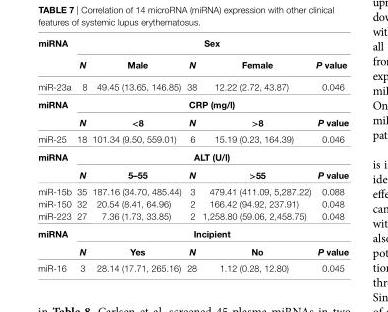table: (37, 37, 348, 272)
table column: (198, 37, 312, 272), (88, 37, 183, 272), (37, 37, 73, 272), (312, 37, 348, 272), (73, 37, 88, 272), (183, 37, 198, 272)
table column header: (37, 37, 348, 75)
table row: (37, 53, 348, 75), (37, 75, 348, 94), (37, 112, 348, 131), (37, 94, 348, 112), (37, 147, 348, 165), (37, 165, 348, 183), (37, 224, 348, 242), (37, 242, 348, 259), (37, 37, 348, 53), (37, 131, 348, 147), (37, 209, 348, 224), (37, 183, 348, 196), (37, 196, 348, 209), (37, 259, 348, 272)
table spanning cell: (73, 94, 348, 112), (73, 147, 348, 165), (73, 224, 348, 242), (73, 37, 348, 53), (37, 37, 73, 75), (37, 94, 73, 131), (37, 147, 73, 183), (37, 224, 73, 259)
